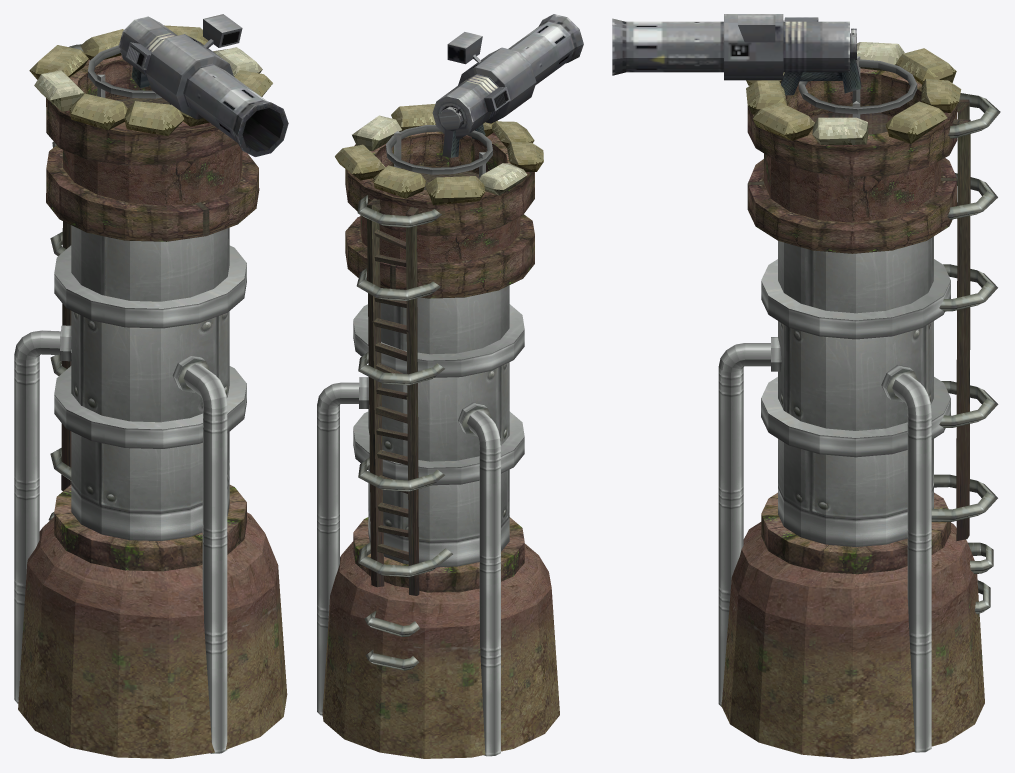
File: C1SMRPGTOWER_H.bgf.obj
The picture shows the model from 3 angles, left to right: view 1: azimuth 30°, elevation 25°; view 2: azimuth 150°, elevation 25°; view 3: azimuth 270°, elevation 25°; orthographic projection. The views are drawn at different scales.
Visible parts, largest first — view 1: C1SMRPGTOWER, FRAG_PLATE15, FRAG_PLATE08, FRAG_PLATE09, BARREL, FRAG_PLATE02, FRAG_PLATE10, FRAG_PLATE03, FRAG_PLATE07, FRAG_PLATE11, FRAG_PLATE12, FRAG_PLATE13 (+2 smaller); view 2: C1SMRPGTOWER, FRAG_PLATE15, FRAG_PLATE08, BARREL, FRAG_PLATE04, FRAG_PLATE03, FRAG_PLATE09, FRAG_PLATE01, FRAG_PLATE05, FRAG_PLATE10, FRAG_PLATE07, FRAG_PLATE13 (+4 smaller); view 3: C1SMRPGTOWER, FRAG_PLATE15, FRAG_PLATE08, BARREL, FRAG_PLATE09, FRAG_PLATE01, FRAG_PLATE10, FRAG_PLATE02, FRAG_PLATE07, FRAG_PLATE05, FRAG_PLATE13, FRAG_PLATE04 (+4 smaller).
Part boxes in pixels (x1,y1,x2,y2): C1SMRPGTOWER: (18, 484, 287, 758); FRAG_PLATE15: (46, 55, 259, 241); FRAG_PLATE08: (54, 366, 246, 541); FRAG_PLATE09: (71, 311, 229, 422); BARREL: (118, 14, 288, 156); FRAG_PLATE02: (172, 356, 227, 753); FRAG_PLATE10: (71, 225, 229, 301); FRAG_PLATE03: (14, 325, 71, 703); FRAG_PLATE07: (50, 232, 246, 328); FRAG_PLATE11: (29, 45, 127, 130); FRAG_PLATE12: (124, 70, 272, 135); FRAG_PLATE13: (80, 25, 262, 76); C1SMRPGTOWER: (322, 517, 559, 758); FRAG_PLATE15: (345, 131, 534, 298); FRAG_PLATE08: (353, 411, 524, 567); BARREL: (432, 14, 583, 157); FRAG_PLATE04: (356, 207, 452, 595); FRAG_PLATE03: (458, 402, 500, 756); FRAG_PLATE09: (368, 362, 509, 461); FRAG_PLATE01: (317, 377, 369, 715); FRAG_PLATE05: (357, 195, 441, 587); FRAG_PLATE10: (380, 285, 509, 354); FRAG_PLATE07: (353, 304, 524, 385); FRAG_PLATE13: (335, 115, 426, 198); C1SMRPGTOWER: (721, 492, 993, 758); FRAG_PLATE15: (747, 68, 957, 253); FRAG_PLATE08: (761, 377, 950, 546); BARREL: (612, 14, 861, 95); FRAG_PLATE09: (778, 321, 933, 430); FRAG_PLATE01: (881, 365, 931, 752); FRAG_PLATE10: (778, 236, 933, 313); FRAG_PLATE02: (718, 337, 781, 706); FRAG_PLATE07: (761, 259, 997, 339); FRAG_PLATE05: (948, 93, 1000, 541); FRAG_PLATE13: (812, 78, 961, 144); FRAG_PLATE04: (931, 99, 997, 521).
Bounding box in the file's own units: 4.11 × 11.86 × 6.02.
28 materials, 28 textured.
